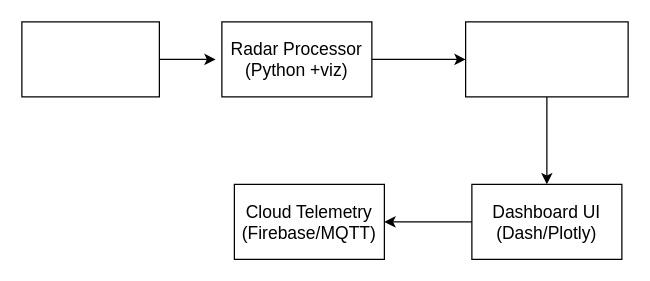
The diagram is 650 pixels wide and 281 high, and some of its shapes have lost their labels. Each missing label, with the box of its shape:
CAN Bus Simulation (Python-can or CANoe): (464, 21, 628, 97)
Radar Data Input (.bag/.csv/etc): (21, 21, 159, 97)
